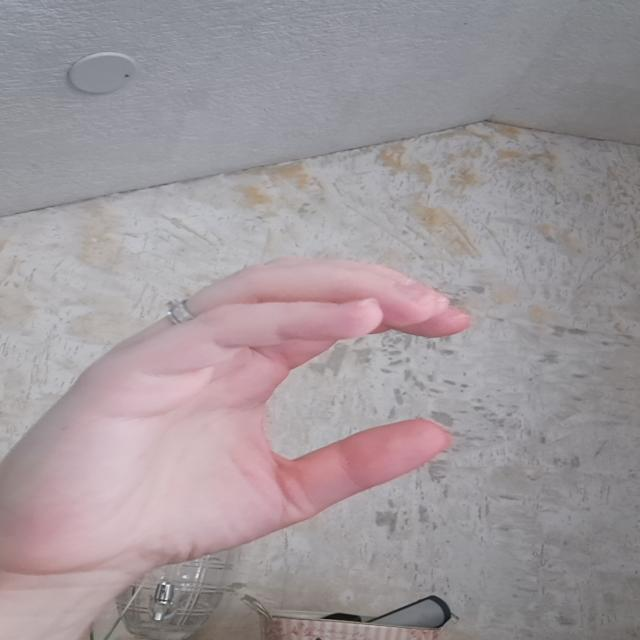C: (0, 245, 481, 565)
